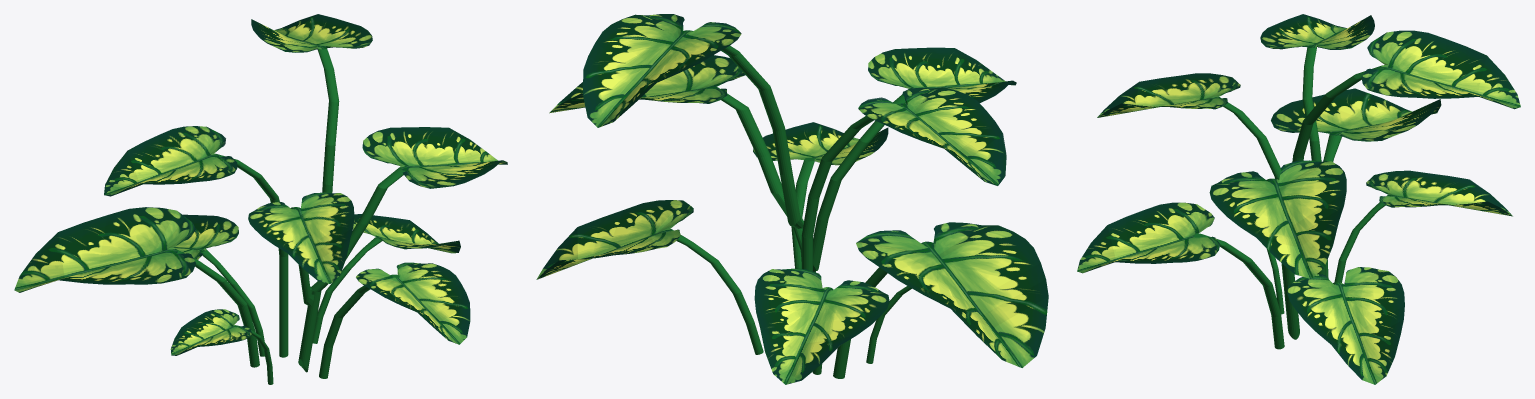
Rendered from floorplant2.fbx.
3 views of the same model, side by side, from view 1: azimuth 30°, elevation 25°; view 2: azimuth 150°, elevation 25°; view 3: azimuth 270°, elevation 25° (orthographic). The views are drawn at different scales.
Visible parts, largest first — view 1: floorplant 2.001; view 2: floorplant 2.001; view 3: floorplant 2.001.
Part boxes in pixels (<box>): floorplant 2.001: <box>14,14,507,384</box>; floorplant 2.001: <box>536,14,1048,384</box>; floorplant 2.001: <box>1077,14,1520,384</box>.
Size of the model in its own units: 91.34 by 58.6 by 74.51.
